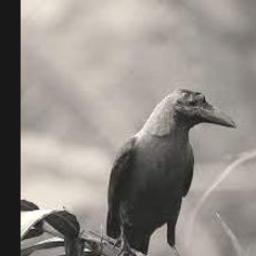Crow: (105, 87, 238, 256)
